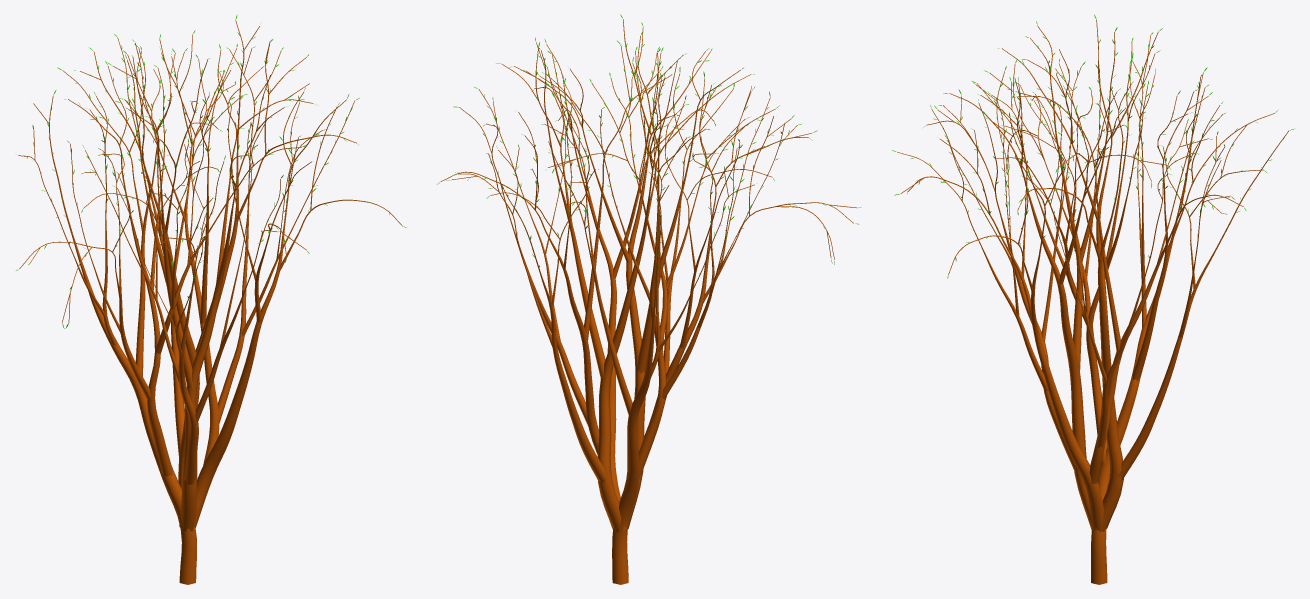
Rendered from arbolito_antes_de_abonarlo.fbx.
3 renders of one model, left to right at view 1: azimuth 30°, elevation 25°; view 2: azimuth 150°, elevation 25°; view 3: azimuth 270°, elevation 25°, orthographic.
Visible parts, largest first — view 1: tree.001, leaves.001; view 2: tree.001, leaves.001; view 3: tree.001, leaves.001.
Part boxes in pixels (<box>): tree.001: <box>18,20,402,584</box>; leaves.001: <box>16,15,406,328</box>; tree.001: <box>440,19,856,584</box>; leaves.001: <box>437,14,861,282</box>; tree.001: <box>897,19,1289,584</box>; leaves.001: <box>892,14,1294,281</box>.
Bounding box in the file's own units: 190 × 268 × 183.
